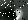person: (15, 10, 23, 20)
